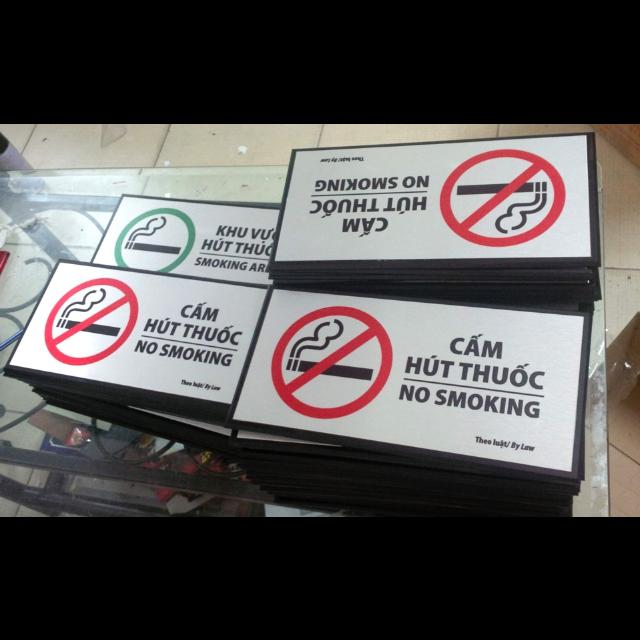cam hut thuoc: (229, 287, 589, 477), (270, 132, 599, 294), (5, 260, 267, 422)
